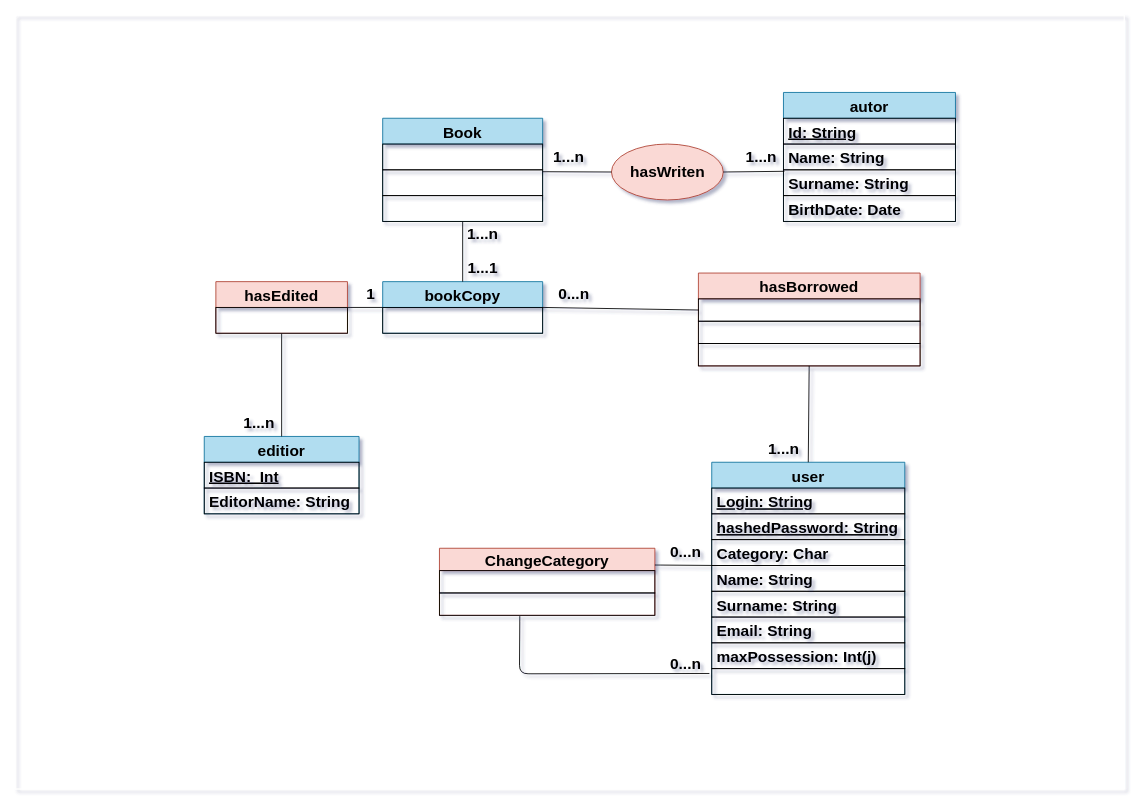
Image size: 1145x809. Some labels were removed from this diagram. The shapes that lost their labels are listed below. From the top down, each one's centre as x and y in pixels, then its label:
At point 462,156: "Title: String".
At point 462,182: "FirstEditionYear: Int".
At point 462,208: "Description: String".
At point 281,320: "Year: Int".
At point 462,320: "Id: Int".
At point 809,309: "BoorowingDate: mm/dd/yy".
At point 809,332: "LimitDate: mm/dd/yy".
At point 809,354: "GiveBackDate: mm/dd/yy".
At point 547,581: "changingDate: mm/dd/yy".
At point 547,603: "newUserCategory: Char".
At point 808,681: "maxBorrowing: Int".
